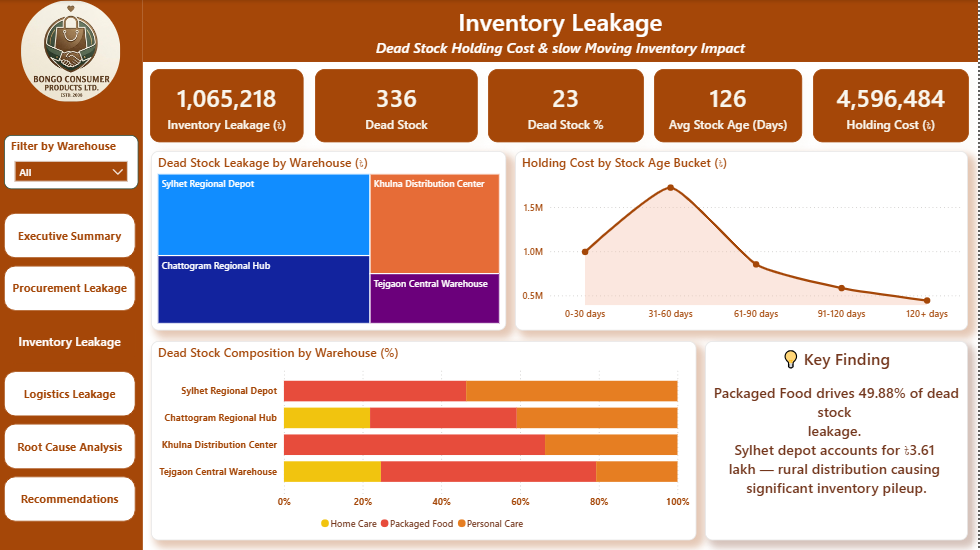

The dashboard page shown, as its layout file describes it:
{"tool":"powerbi","page":{"name":"Inventory Leakage","canvas":[1280,720],"ordinal":2},"visuals":[{"type":"shape","box":[0,0,187.2,720],"z":0},{"type":"slicer","title":"Filter by Warehouse","fields":{"Values":["vw_inventory_holding_leakage.warehouse_name"]},"box":[4.6,177.1,175.6,70.9],"z":1000},{"type":"card","fields":{"Values":["_Measures.Total Inventory Leakage"]},"box":[196.8,90.8,200.9,96.3],"z":2000},{"type":"card","fields":{"Values":["_Measures.Dead Stock Count"]},"box":[412.9,90.8,213.3,96.3],"z":3000},{"type":"card","fields":{"Values":["_Measures.Dead Stock %"]},"box":[638.6,90.8,203.7,96.3],"z":4000},{"type":"card","fields":{"Values":["_Measures.Avg Stock Age Days"]},"box":[856.1,90.8,194.1,96.3],"z":5000},{"type":"card","fields":{"Values":["_Measures.Total Holding Cost"]},"box":[1063.9,90.8,203.7,96.3],"z":6000},{"type":"textbox","box":[187,0,1093,80.6],"z":7000},{"type":"treemap","title":"Dead Stock Leakage by Warehouse (৳)","fields":{"Group":["vw_inventory_holding_leakage.warehouse_name"],"Values":["Sum(vw_inventory_holding_leakage.dead_stock_holding_cost)"]},"box":[197.3,197.3,465.1,234.7],"z":8000},{"type":"areaChart","title":"Holding Cost by Stock Age Bucket (৳)","fields":{"Category":["vw_inventory_holding_leakage.stock_age_bucket"],"Y":["Sum(vw_inventory_holding_leakage.holding_cost)"]},"box":[673.9,197.3,593.3,234.7],"z":9000},{"type":"hundredPercentStackedBarChart","title":"Dead Stock Composition by Warehouse (%)","fields":{"Category":["vw_inventory_holding_leakage.warehouse_name"],"Y":["Sum(vw_inventory_holding_leakage.dead_stock_holding_cost)"],"Series":["vw_inventory_holding_leakage.product_category"]},"box":[197.3,446.4,714.2,260.6],"z":10000},{"type":"textbox","box":[923,446.4,344.2,260.6],"z":11000},{"type":"image","box":[27.4,0,129.6,133.9],"z":12000},{"type":"pageNavigator","box":[5.8,279.4,172.8,406.1],"z":13000}]}

Visuals, with their boxes in screenshot pixels (x1, y1, x2, y2), scaled from the page's 1280x720 canvas onto the 980x550 screenshot:
shape: region(0, 0, 143, 549)
"Filter by Warehouse" slicer: region(4, 135, 138, 189)
card - _Measures.Total Inventory Leakage: region(151, 69, 304, 143)
card - _Measures.Dead Stock Count: region(316, 69, 479, 143)
card - _Measures.Dead Stock %: region(489, 69, 645, 143)
card - _Measures.Avg Stock Age Days: region(655, 69, 804, 143)
card - _Measures.Total Holding Cost: region(815, 69, 971, 143)
textbox: region(143, 0, 979, 62)
"Dead Stock Leakage by Warehouse (৳)" treemap: region(151, 151, 507, 330)
"Holding Cost by Stock Age Bucket (৳)" areaChart: region(516, 151, 970, 330)
"Dead Stock Composition by Warehouse (%)" hundredPercentStackedBarChart: region(151, 341, 698, 540)
textbox: region(707, 341, 970, 540)
image: region(21, 0, 120, 102)
pageNavigator: region(4, 213, 137, 524)
